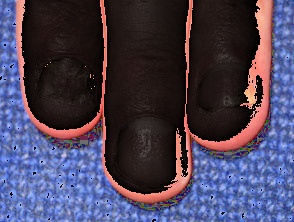Nail_psoriasis: (98, 98, 202, 204), (20, 39, 111, 141), (184, 42, 278, 137)
